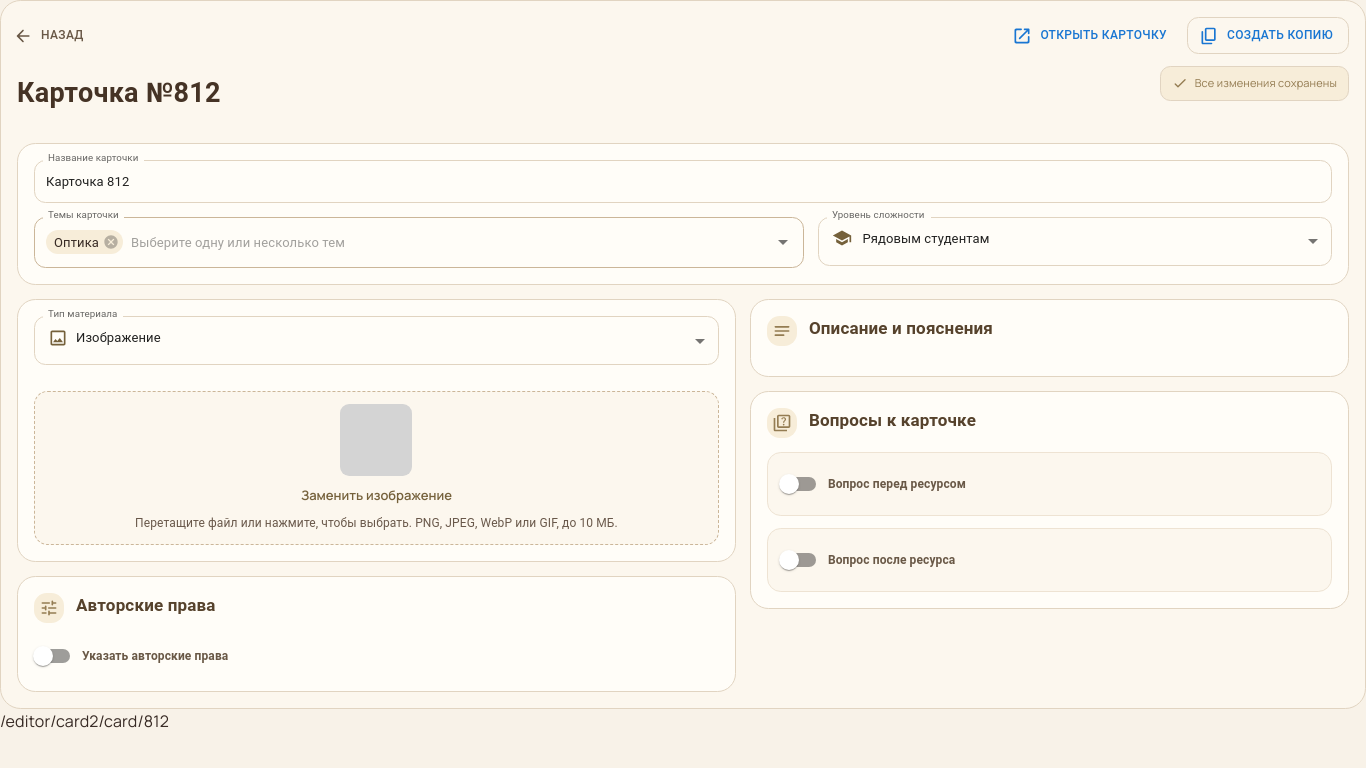
Test case: copying uses the RTK mutation and navigates to the new card
Step 1. Click the button "Создать копию" → (1268, 36), box [1187,17,1349,54]
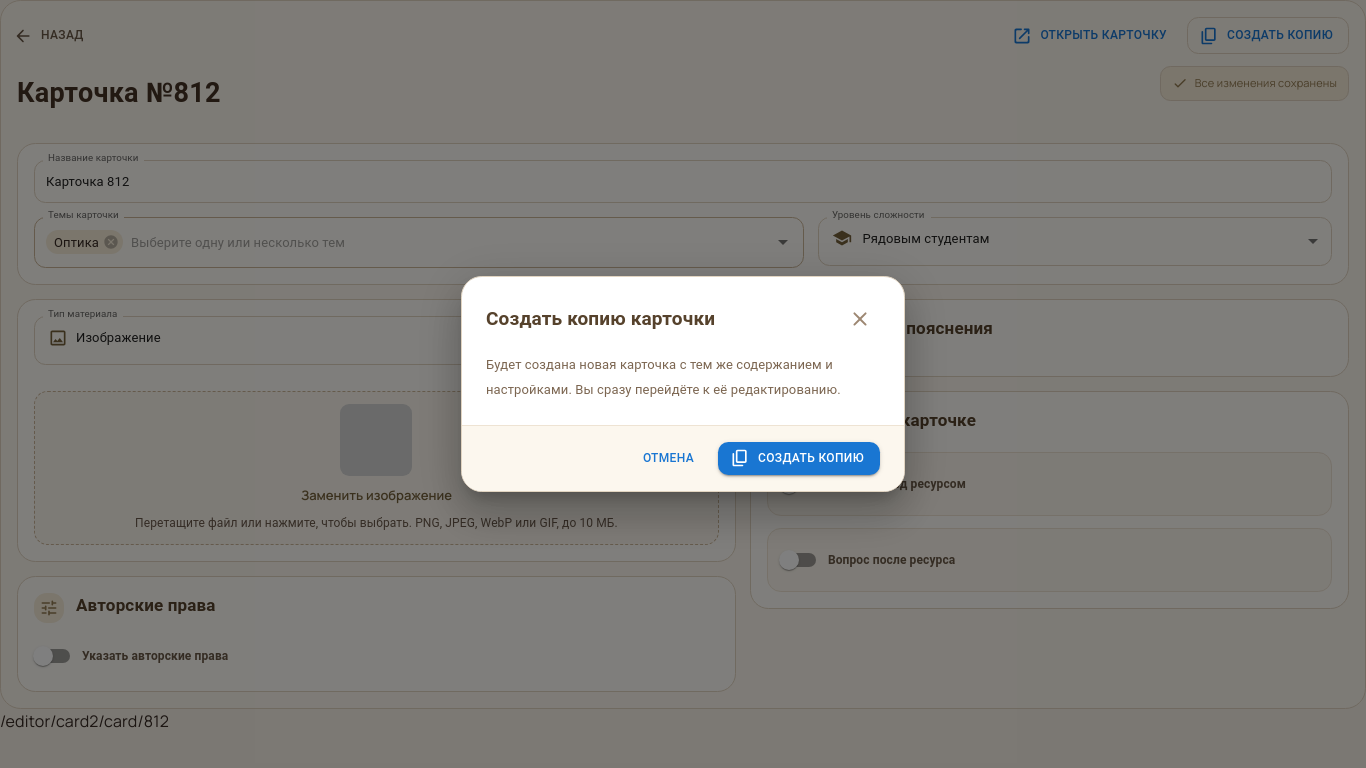
Step 2. Click the button "Создать копию" → (799, 458), box [718,442,880,475]
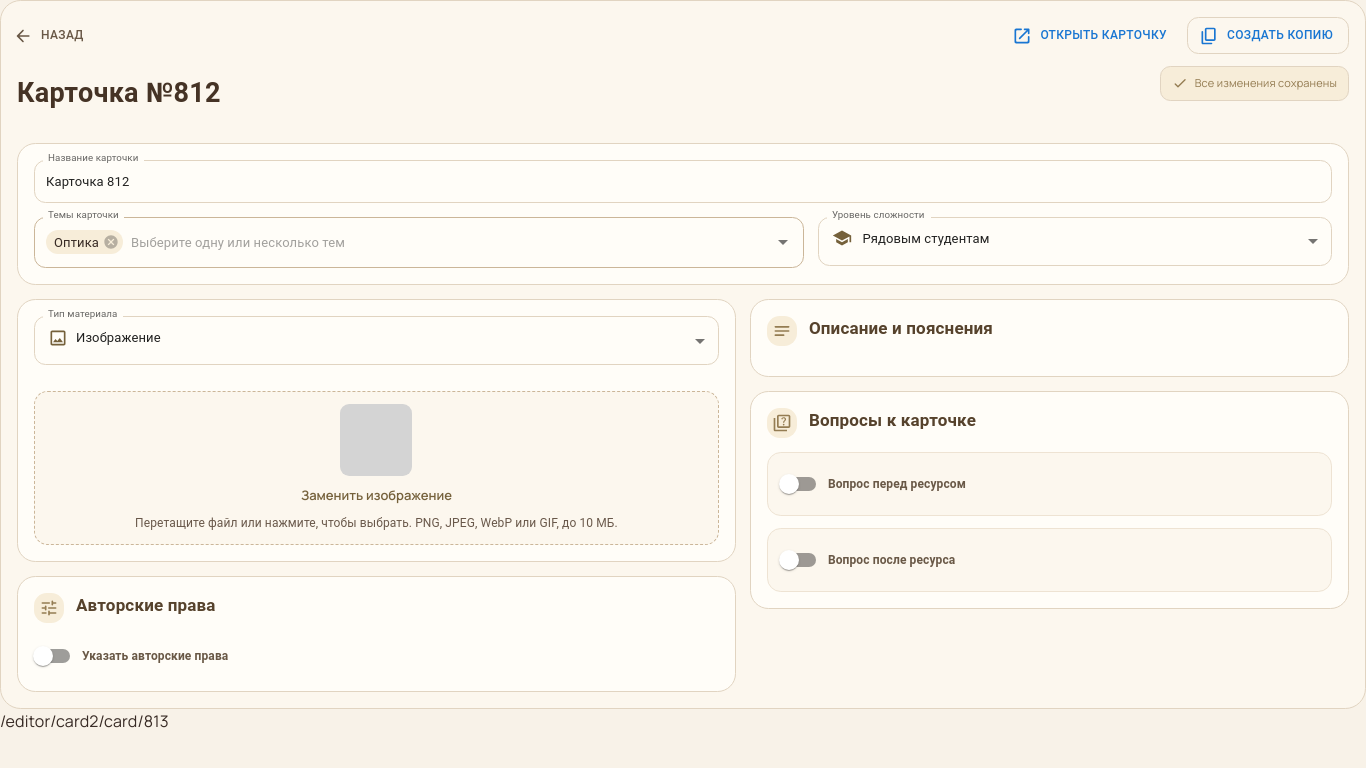
Check: the text "/editor/card2/card/813" is shown, box [0,710,169,732]
